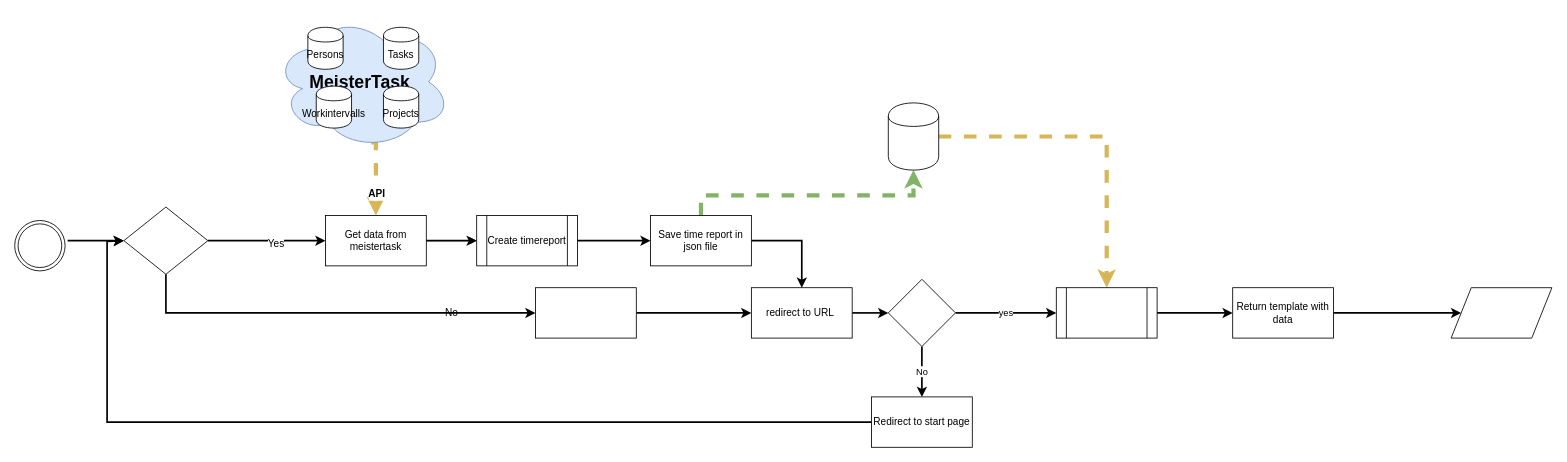
Some shapes in this 1567 by 462 pixel diagram are drawn without their labels. The centre of each missing label's shape, as x and y in pixels:
"Export to CSV-File" goes at point (1501, 312).
"File exsists?" goes at point (921, 312).
"JSON" goes at point (913, 136).
"load data from json file (report file)" goes at point (1106, 312).
"new tmereport?" goes at point (165, 240).
"User select report" goes at point (585, 312).
